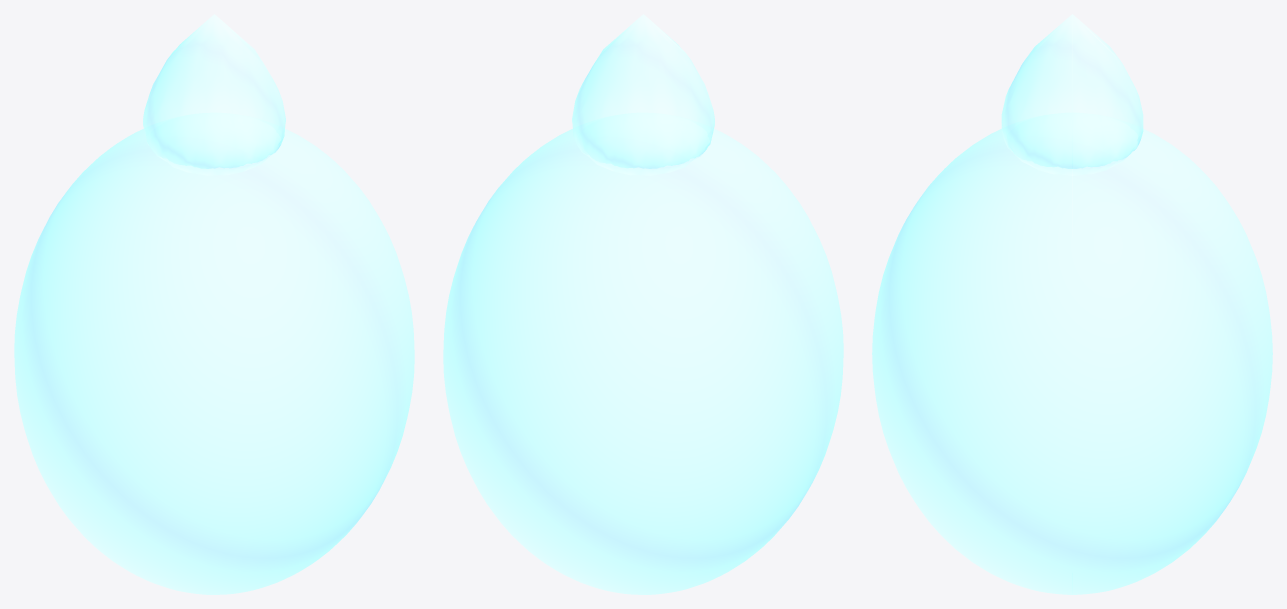
The model's file is water_droplet_carry.glb.
3 renders of one model, left to right at view 1: azimuth 30°, elevation 25°; view 2: azimuth 150°, elevation 25°; view 3: azimuth 270°, elevation 25°, orthographic.
Visible parts, largest first — view 1: water_droplet_carry; view 2: water_droplet_carry; view 3: water_droplet_carry.
Boxes of the visible parts, bbox=[...] form: water_droplet_carry: bbox=[14, 14, 414, 594]; water_droplet_carry: bbox=[443, 14, 843, 594]; water_droplet_carry: bbox=[872, 14, 1272, 594].
Size of the model in its own units: 0.3804 by 0.5931 by 0.3805.
